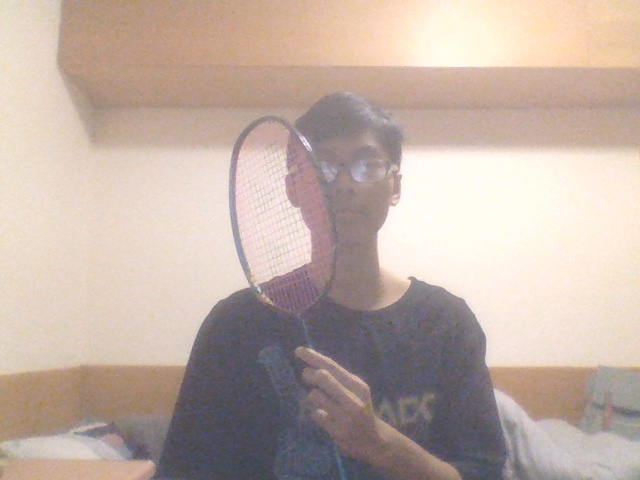human: (151, 93, 508, 480)
racket: (228, 116, 346, 480)
